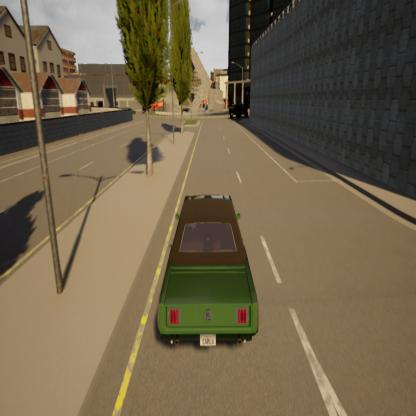Cars: (155, 187, 266, 365), (228, 98, 250, 122)
